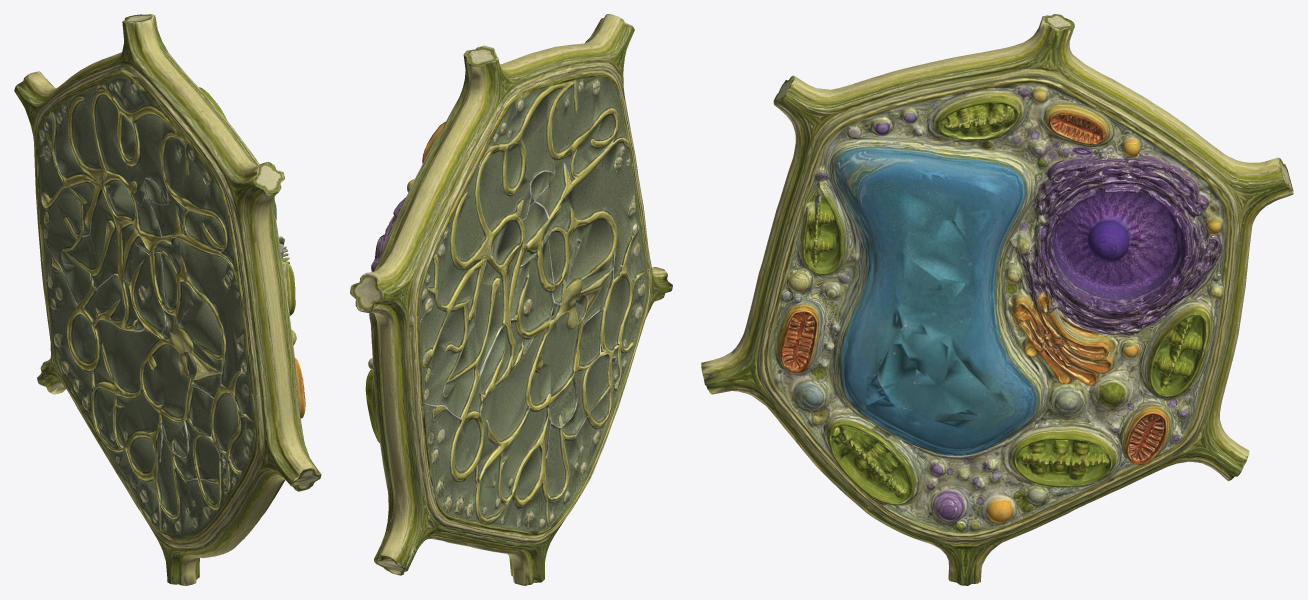
File: cellforge-plant.glb
The picture shows the model from 3 angles, left to right: view 1: azimuth 30°, elevation 25°; view 2: azimuth 150°, elevation 25°; view 3: azimuth 270°, elevation 25°; orthographic projection. The views are drawn at different scales.
Parts seen in each view (by area): view 1: tripo_node_1db80a91-e202-4494-b17b-147de74cae81; view 2: tripo_node_1db80a91-e202-4494-b17b-147de74cae81; view 3: tripo_node_1db80a91-e202-4494-b17b-147de74cae81.
Boxes of the visible parts, left/top/right/bottom form: tripo_node_1db80a91-e202-4494-b17b-147de74cae81: left=14, top=14, right=321, bottom=585; tripo_node_1db80a91-e202-4494-b17b-147de74cae81: left=350, top=14, right=672, bottom=585; tripo_node_1db80a91-e202-4494-b17b-147de74cae81: left=701, top=14, right=1293, bottom=585.
Bounding box in the file's own units: 0.1357 × 0.9993 × 0.9552.
1 material, 1 textured.
